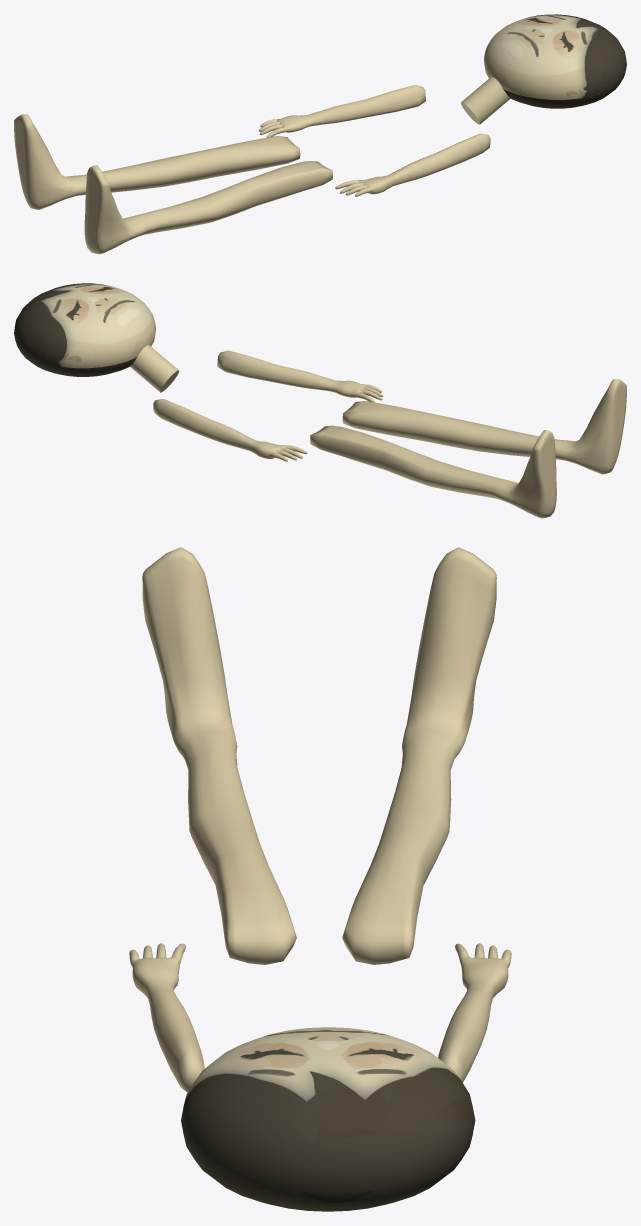
File: scary_child.FBX
3 renders of one model, top to bottom at view 1: azimuth 30°, elevation 25°; view 2: azimuth 150°, elevation 25°; view 3: azimuth 270°, elevation 25°, orthographic. The views are drawn at different scales.
Visible parts, largest first — view 1: Sphere004; view 2: Sphere004; view 3: Sphere004.
Part boxes in pixels (x1,y1,x2,y2): Sphere004: (14, 14, 626, 254); Sphere004: (14, 283, 626, 518); Sphere004: (129, 547, 511, 1211).
Bounding box in the file's own units: 625 × 101 × 185.
